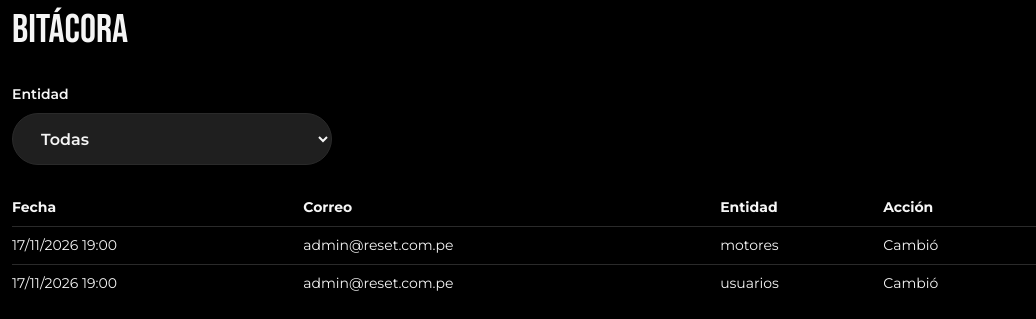
Scenario: admin · bitácora › lista fecha, correo, entidad y acción, y filtra por entidad
Expected: the number of rows is 3, [12,189,1035,226]; [12,226,1035,264]; [12,264,1035,302]
Expected: the text "motores" is shown, [720,226,883,264]
Select "usuarios" in the dropdown labelled "Entidad" at (172, 139), box [12,113,332,165]
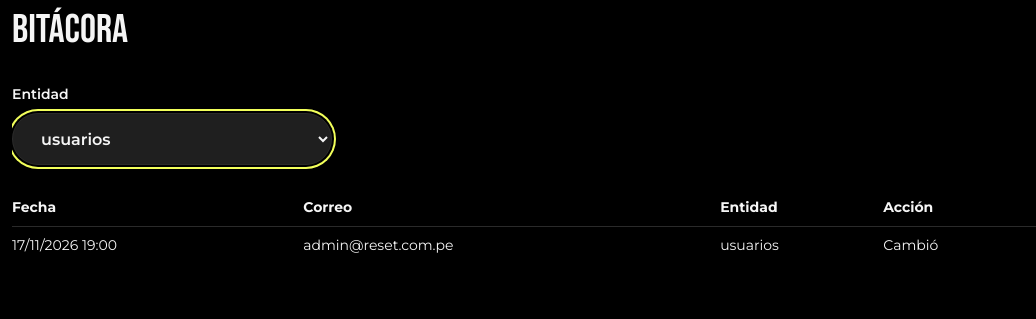
Expected: the cell "usuarios" is shown, [720,226,883,264]
Now the cell "motores" is gone
